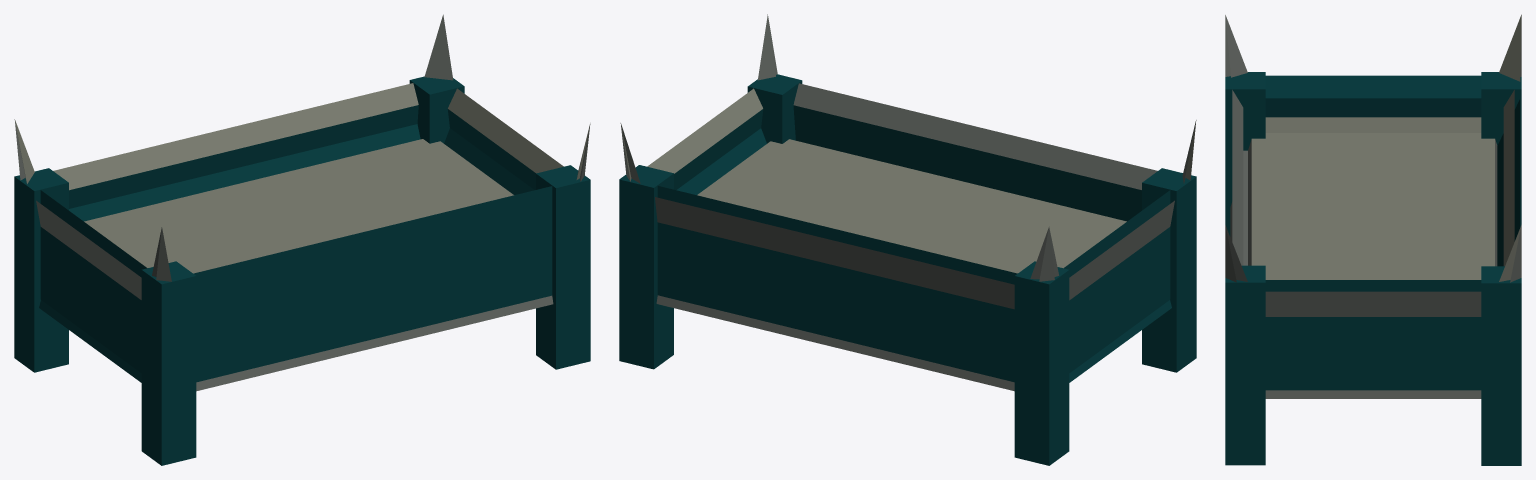
The model's file is stronghold_base.glb.
3 renders of one model, left to right at view 1: azimuth 30°, elevation 25°; view 2: azimuth 150°, elevation 25°; view 3: azimuth 270°, elevation 25°, orthographic.
Parts seen in each view (by area): view 1: stronghold_base, Pillar1.002, Pillar1.003, Pillar1.001, Pillar1; view 2: stronghold_base, Pillar1.001, Pillar1, Pillar1.002, Pillar1.003; view 3: stronghold_base, Pillar1.003, Pillar1, Pillar1.002, Pillar1.001.
Boxes of the visible parts, box(x1,y1,x2,y2) form: stronghold_base: box(14, 14, 590, 391); Pillar1.002: box(141, 261, 196, 465); Pillar1.003: box(536, 165, 590, 369); Pillar1.001: box(14, 168, 68, 372); Pillar1: box(409, 76, 464, 143); stronghold_base: box(620, 14, 1196, 391); Pillar1.001: box(1014, 261, 1069, 465); Pillar1: box(619, 165, 673, 369); Pillar1.002: box(1142, 168, 1196, 372); Pillar1.003: box(747, 74, 802, 143); stronghold_base: box(1225, 14, 1521, 398); Pillar1.003: box(1225, 265, 1265, 465); Pillar1: box(1481, 266, 1521, 465); Pillar1.002: box(1225, 72, 1265, 236); Pillar1.001: box(1481, 72, 1521, 227).
Bounding box in the file's own units: 12.4 × 6.6 × 7.36.
